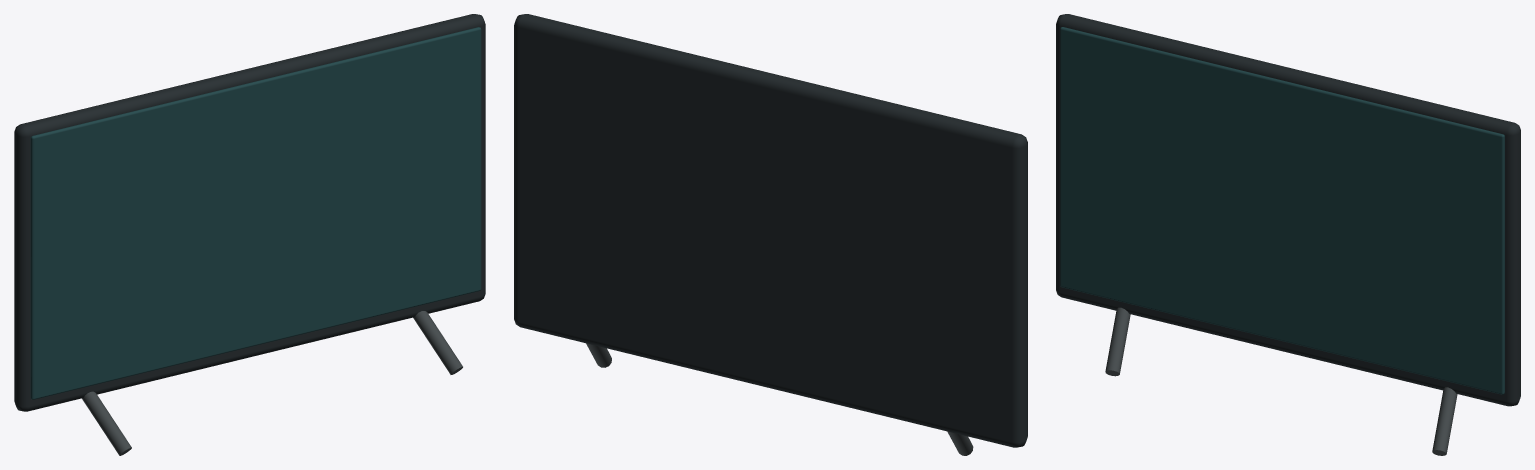
The model's file is tv-9f9d3fcee8a3.glb.
3 views of the same model, side by side, from view 1: azimuth 30°, elevation 25°; view 2: azimuth 150°, elevation 25°; view 3: azimuth 330°, elevation 25° (orthographic). The views are drawn at different scales.
Parts seen in each view (by area): view 1: surface_deep, surface_ink, surface_graphite; view 2: surface_ink, surface_graphite; view 3: surface_deep, surface_ink, surface_graphite.
Part boxes in pixels (x1,y1,x2,y2): surface_deep: (30,27,481,399); surface_ink: (14,14,485,411); surface_graphite: (82,311,462,455); surface_ink: (514,14,1027,447); surface_graphite: (586,343,973,455); surface_deep: (1060,27,1504,394); surface_ink: (1056,14,1520,406); surface_graphite: (1105,307,1457,455).
Size of the model in its own units: 1.3 by 0.877 by 0.1675.
